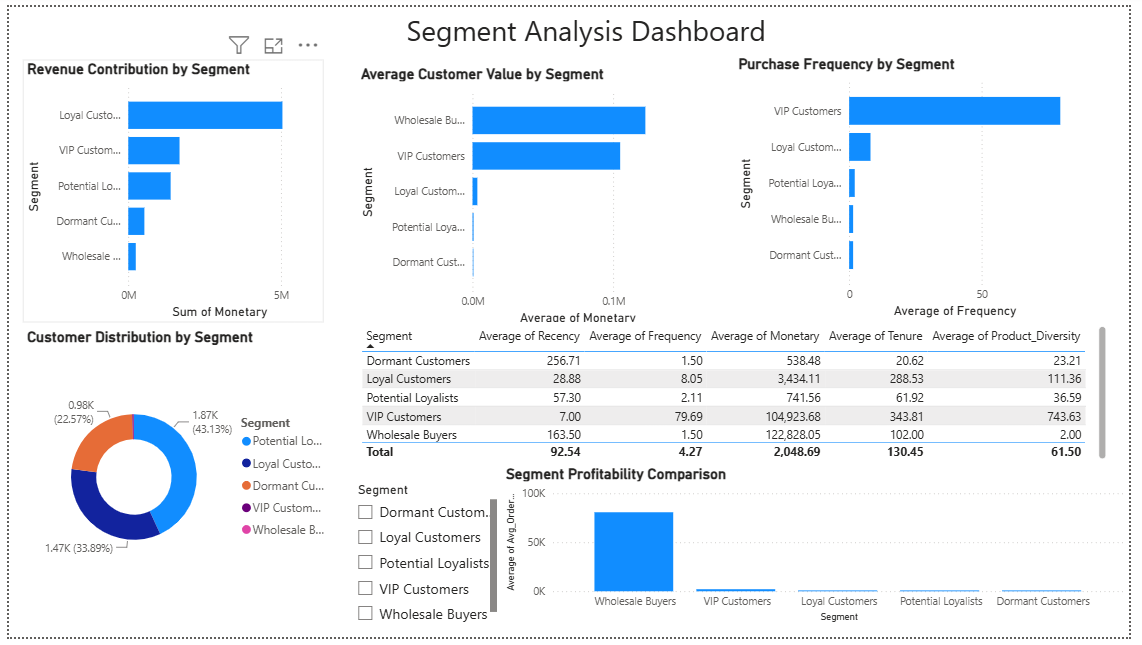

This screenshot's page, from the dashboard's own definition file:
{"tool":"powerbi","page":{"name":"Segment Analysis Dashboard","canvas":[1280,720],"ordinal":1},"visuals":[{"type":"donutChart","title":"Customer Distribution by Segment","fields":{"Category":["segmented_customers.Segment"],"Y":["Count(segmented_customers.CustomerID)"]},"box":[15.1,367.8,359.5,321.1],"z":0},{"type":"clusteredBarChart","title":"Revenue Contribution by Segment","fields":{"Category":["segmented_customers.Segment"],"Y":["Sum(segmented_customers.Monetary)"]},"box":[15.1,59.3,344.2,301.2],"z":1000},{"type":"clusteredBarChart","title":"Average Customer Value by Segment","fields":{"Category":["segmented_customers.Segment"],"Y":["Avg(segmented_customers.Monetary)"]},"box":[396.5,65.1,393,302.3],"z":2000},{"type":"clusteredBarChart","title":"Purchase Frequency by Segment","fields":{"Category":["segmented_customers.Segment"],"Y":["Avg(segmented_customers.Frequency)"]},"box":[827.9,54.7,386,305.8],"z":3000},{"type":"slicer","fields":{"Values":["segmented_customers.Segment"]},"box":[386,538.4,176.7,169.8],"z":4000},{"type":"tableEx","fields":{"Values":["segmented_customers.Segment","Avg(segmented_customers.Recency)","Avg(segmented_customers.Frequency)","Avg(segmented_customers.Monetary)","Avg(segmented_customers.Tenure)","Avg(segmented_customers.Product_Diversity)"]},"box":[396.5,360.5,861.6,162.8],"z":4001},{"type":"clusteredColumnChart","title":"Segment Profitability Comparison","fields":{"Category":["segmented_customers.Segment"],"Y":["Avg(segmented_customers.Avg_Order_Value)"]},"box":[562.8,523.3,717.4,184.9],"z":4002},{"type":"textbox","box":[386,0,547.7,54.7],"z":4003}]}

Visuals, with their boxes in screenshot pixels (x1, y1, x2, y2), scaled from the page's 1280x720 canvas onto the 1142x645 screenshot:
"Customer Distribution by Segment" donutChart: pyautogui.locateOnScreen(13, 329, 334, 617)
"Revenue Contribution by Segment" clusteredBarChart: pyautogui.locateOnScreen(13, 53, 321, 323)
"Average Customer Value by Segment" clusteredBarChart: pyautogui.locateOnScreen(354, 58, 704, 329)
"Purchase Frequency by Segment" clusteredBarChart: pyautogui.locateOnScreen(739, 49, 1083, 323)
slicer - segmented_customers.Segment: pyautogui.locateOnScreen(344, 482, 502, 634)
tableEx - segmented_customers.Segment x Avg(segmented_customers.Recency): pyautogui.locateOnScreen(354, 323, 1122, 469)
"Segment Profitability Comparison" clusteredColumnChart: pyautogui.locateOnScreen(502, 469, 1141, 634)
textbox: pyautogui.locateOnScreen(344, 0, 833, 49)
